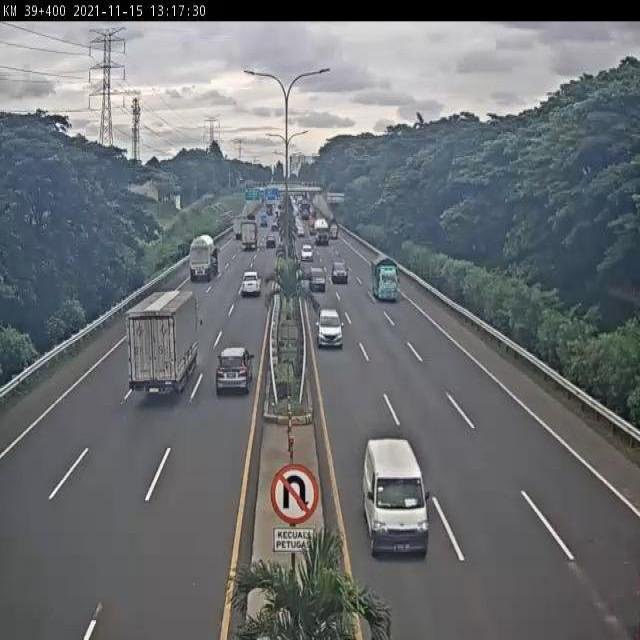car: (361, 440, 431, 559), (215, 343, 253, 397), (314, 305, 346, 352), (238, 268, 264, 301), (306, 262, 327, 294), (330, 258, 351, 286)
truck-m-: (126, 285, 198, 404), (370, 253, 402, 304)
truck-xl-: (188, 232, 220, 284)
